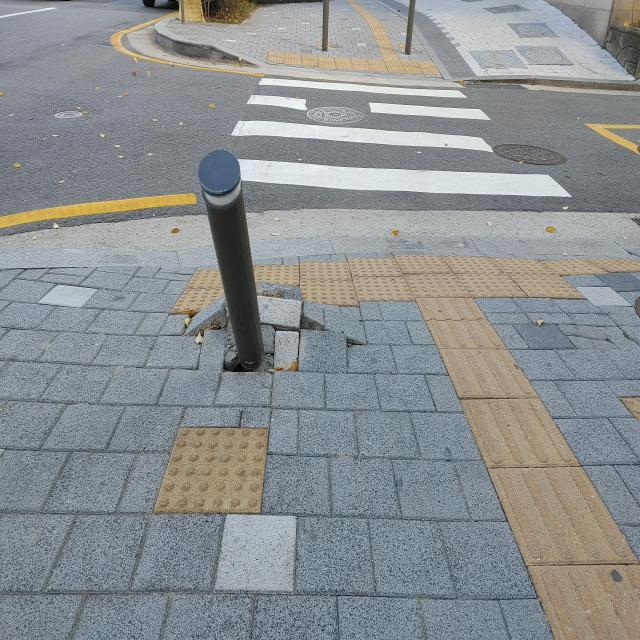pole: (197, 146, 268, 370)
